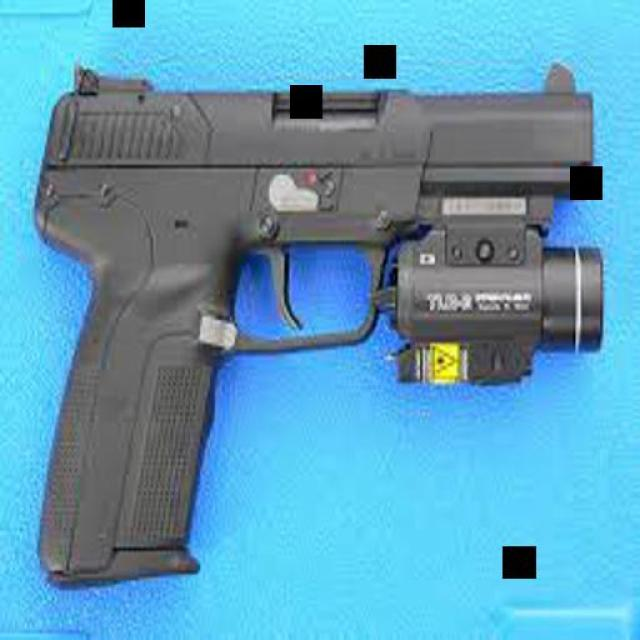gun: (12, 47, 602, 575)
